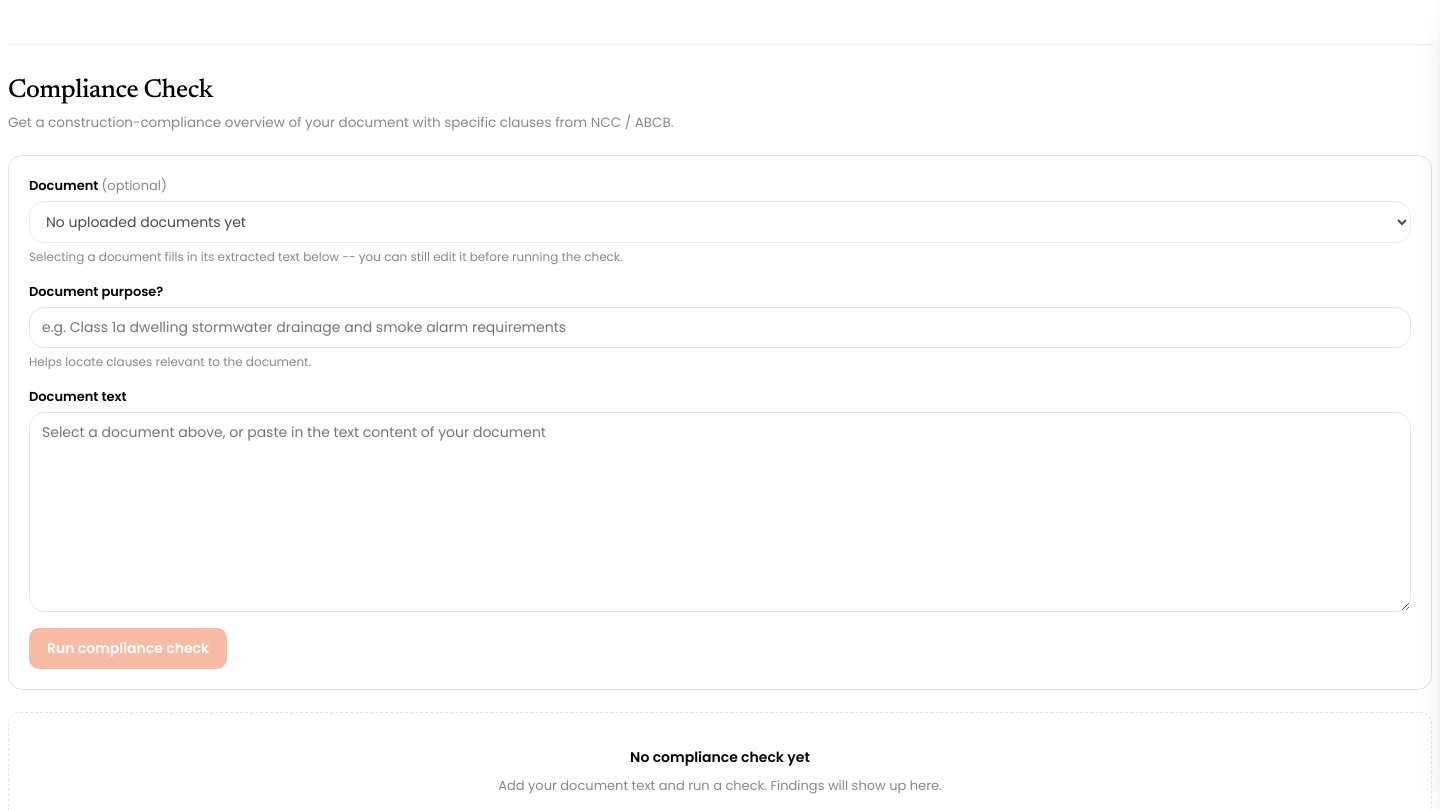
Test: ComplianceCheck — running a check › says so when no applicable clauses are found
The image size is (1440, 810).
Replace the text in the field labelled "Document purpose?" with "footing requirements": point(720, 327) [29, 307, 1411, 348]
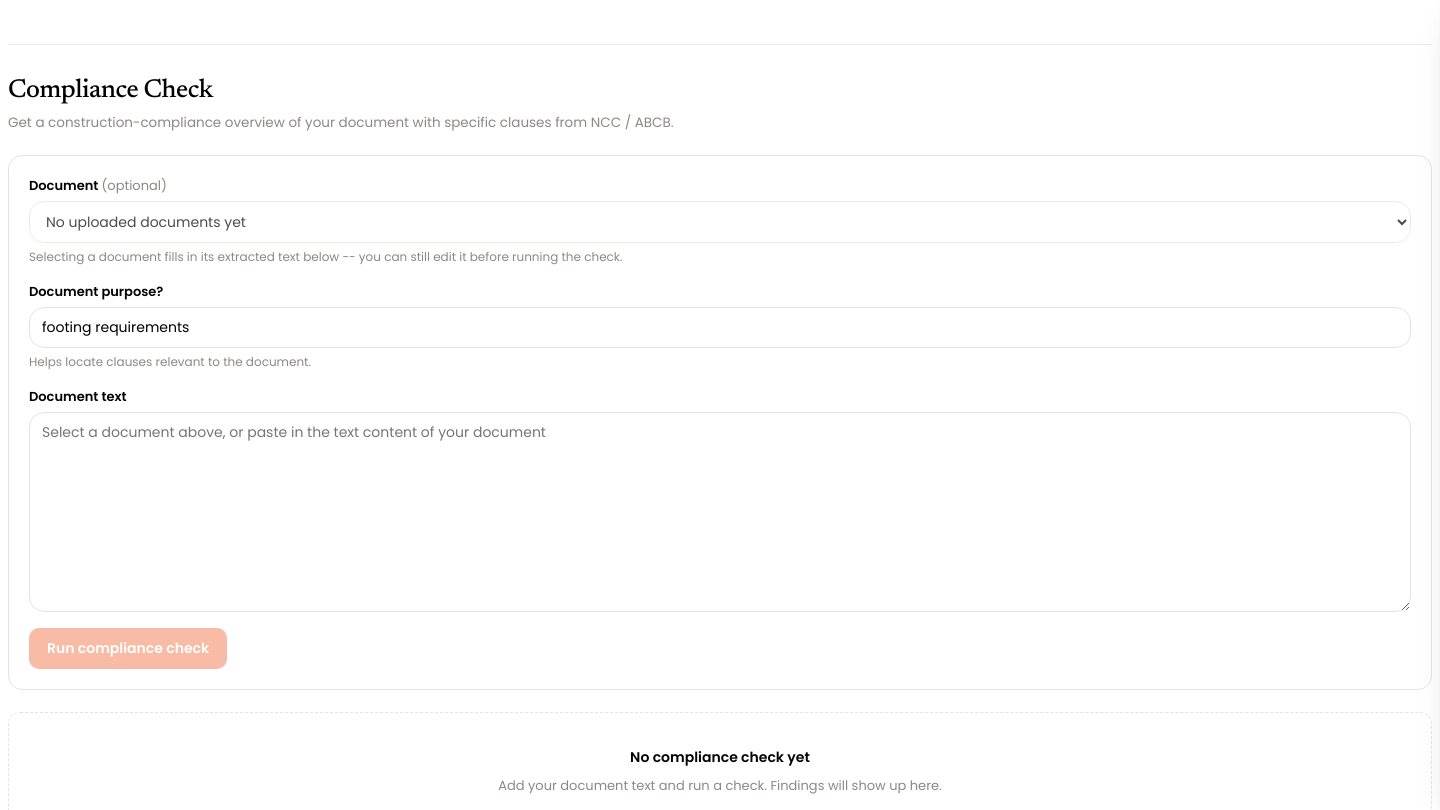
Replace the text in the text box labelled "Document text" with "Footings: 600mm deep.": point(720, 512) [29, 412, 1411, 612]
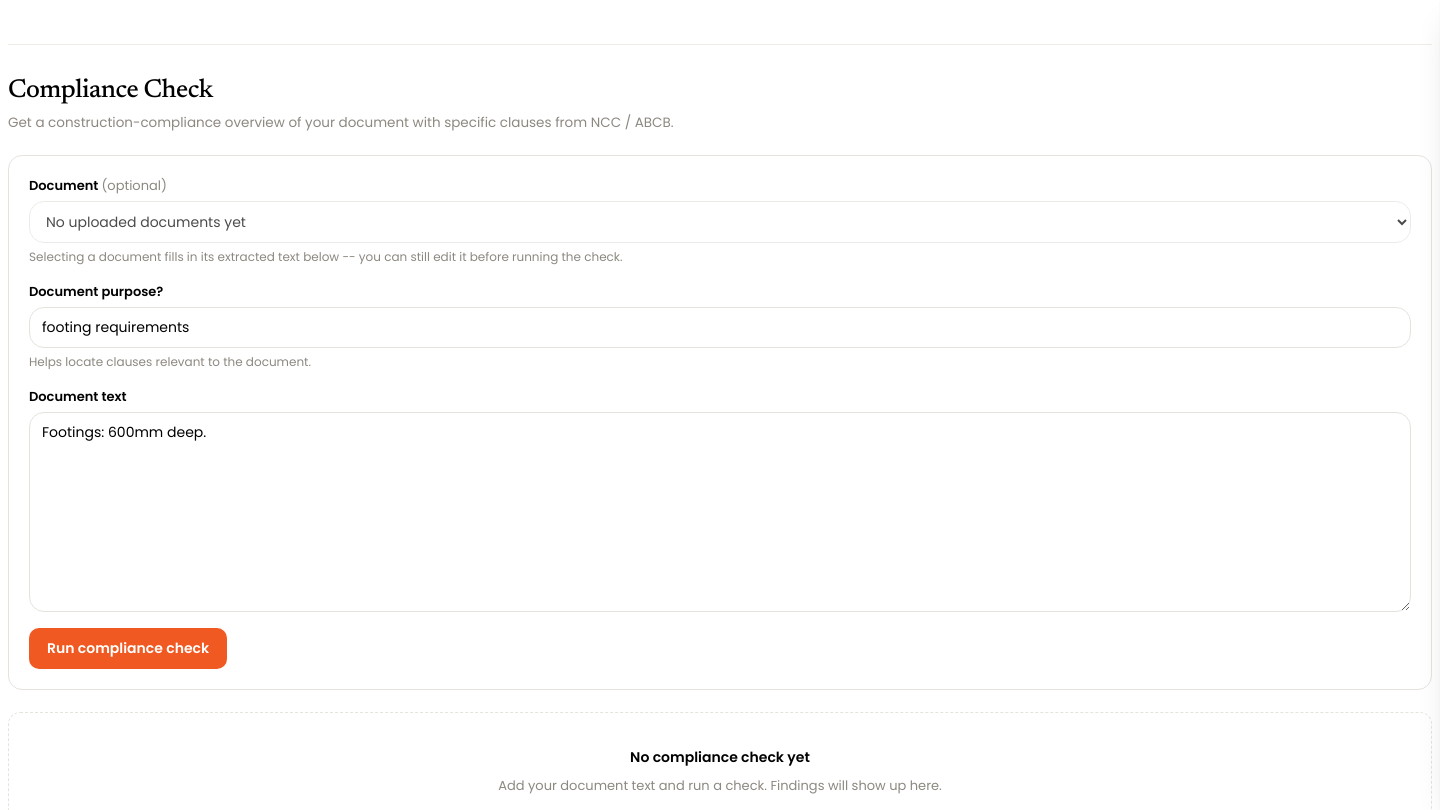
Click the button "Run compliance check": point(128, 648) [29, 628, 227, 669]
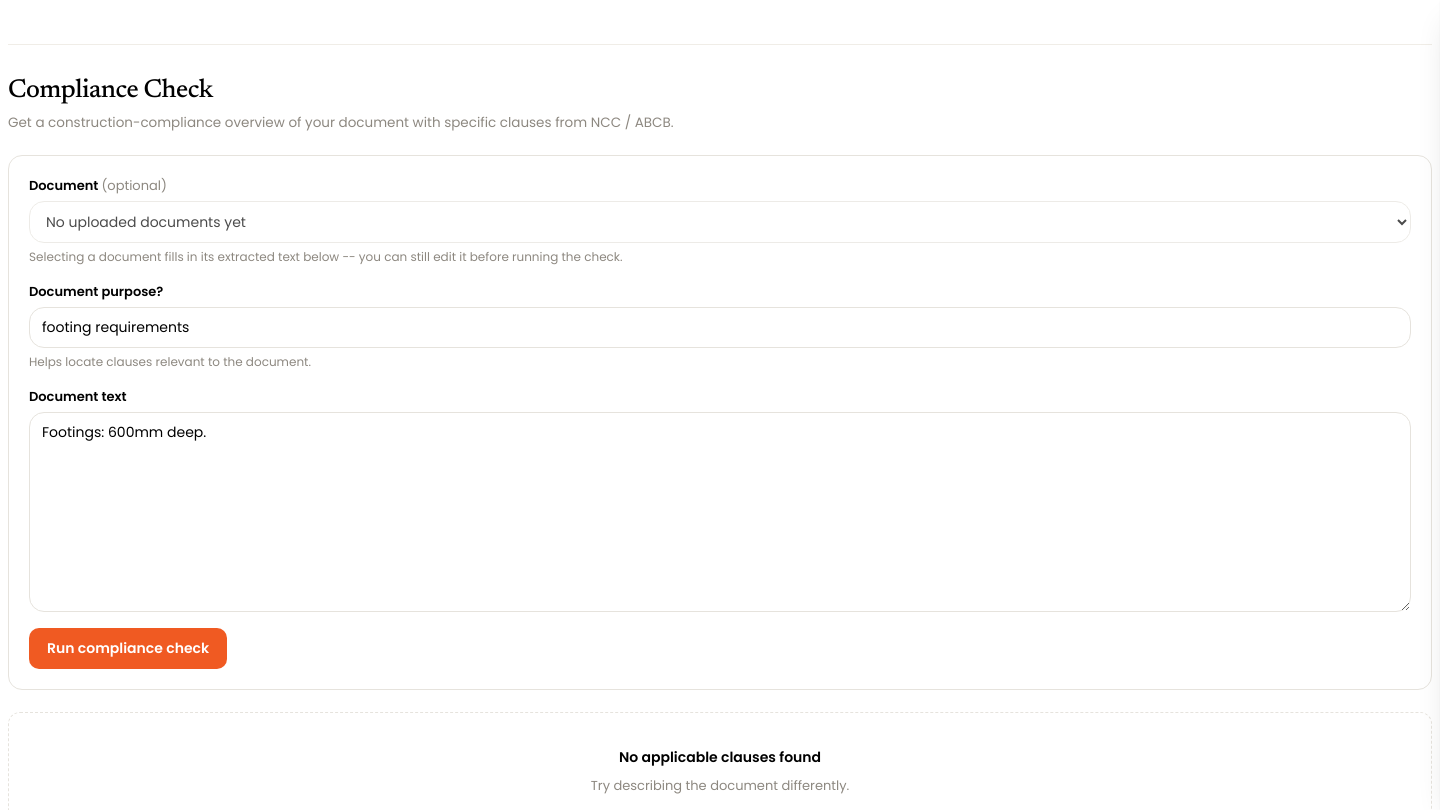
Expected: the text "No applicable clauses found" is shown, [619, 747, 821, 767]
Expected: the text "No compliance check yet" is gone
